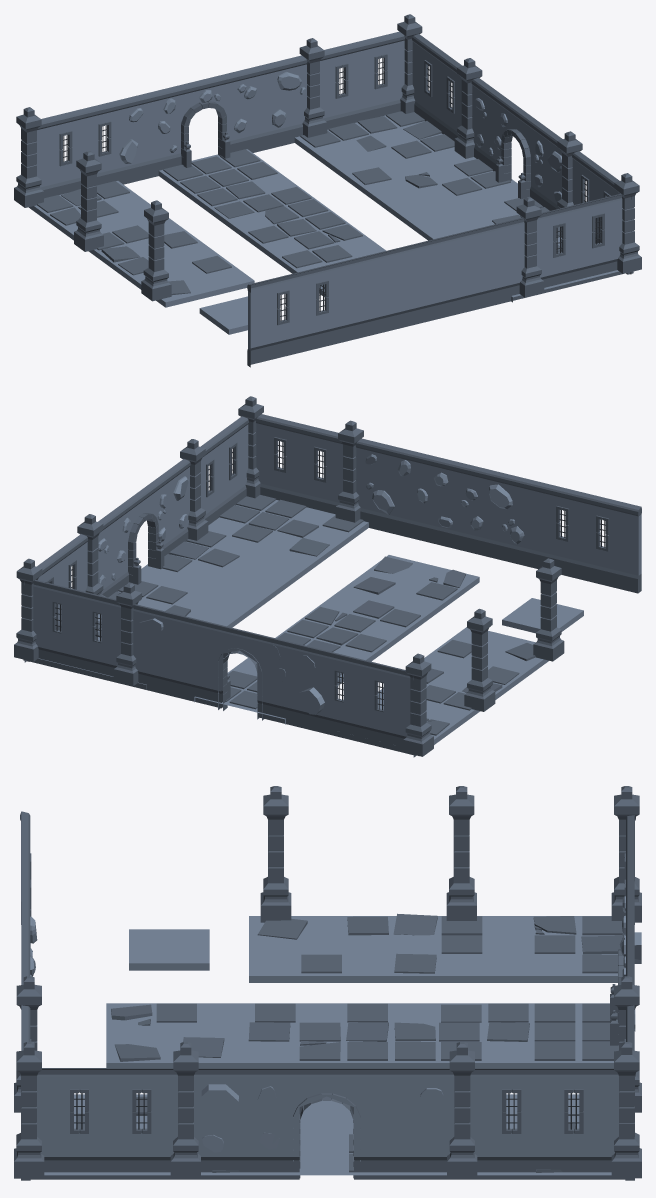
Rendered from tutorialMap.fbx.
The picture shows the model from 3 angles, top to bottom: view 1: azimuth 30°, elevation 25°; view 2: azimuth 150°, elevation 25°; view 3: azimuth 270°, elevation 25°; orthographic projection. The views are drawn at different scales.
Parts seen in each view (by area): view 1: Cube.007, Cube; view 2: Cube.007, Cube; view 3: Cube.007, Cube.
Part boxes in pixels (left/top/right/bottom): Cube.007: left=14, top=14, right=641, bottom=367; Cube: left=119, top=72, right=562, bottom=201; Cube.007: left=14, top=396, right=641, bottom=757; Cube: left=97, top=454, right=524, bottom=714; Cube.007: left=14, top=786, right=641, bottom=1180; Cube: left=30, top=896, right=641, bottom=1152.
Size of the model in its own units: 1577 by 381 by 1557.
